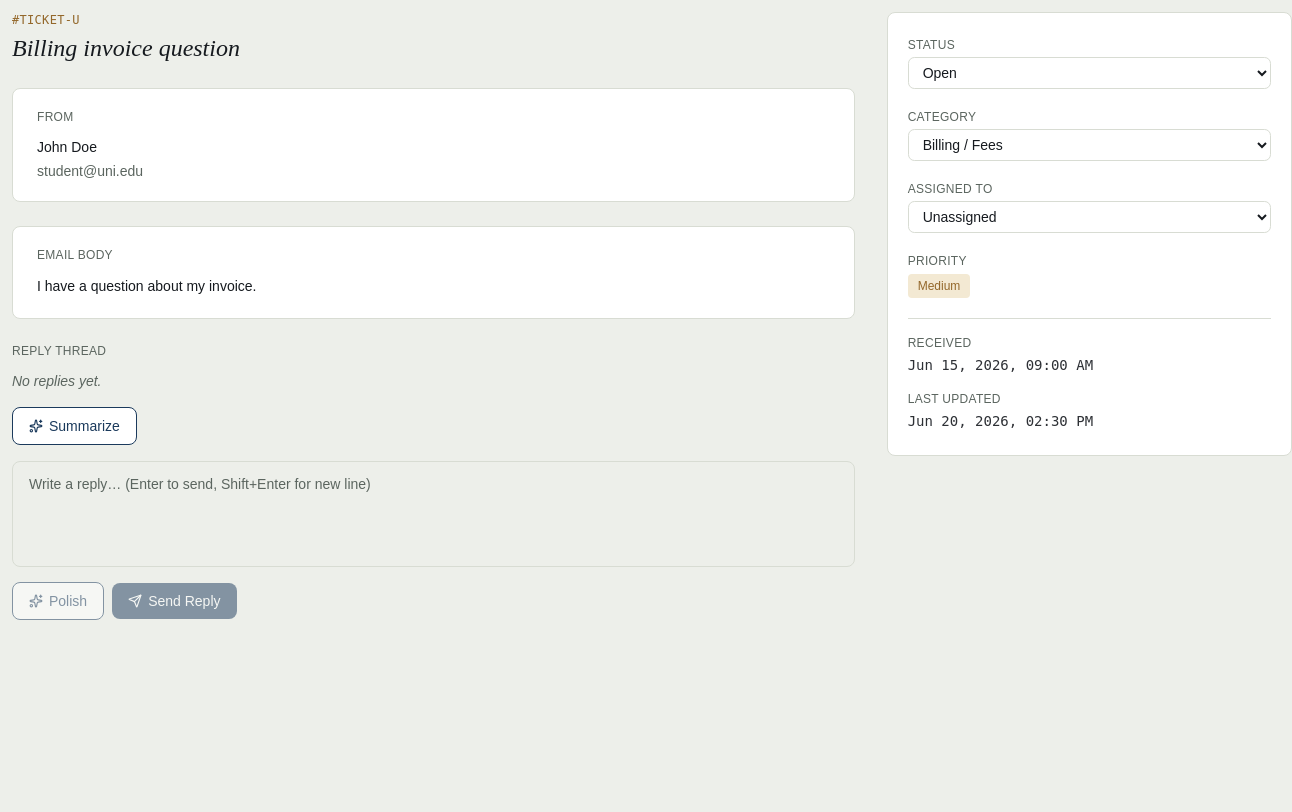
it: TicketDetail › reply form › shows button label as "Sending…" while the POST is in flight
expect the heading "Billing invoice question" is shown: met, box [12,35,240,61]
Type "Hello." into the text box with placeholder "Write a reply… (Enter to send, Shift+Enter for new line)" at (433, 514), box [12,461,855,567]
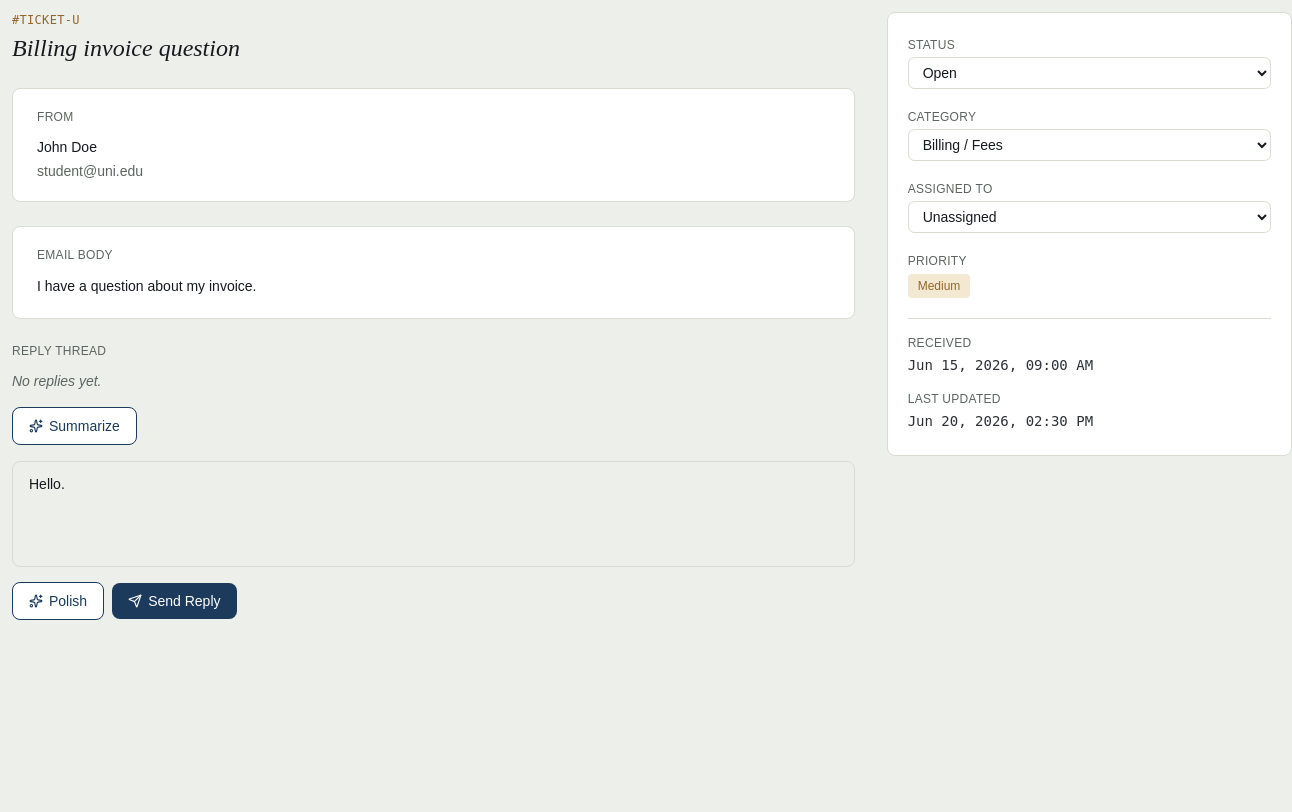
Click the button "Send Reply" at (174, 601), box [112,583,236,619]
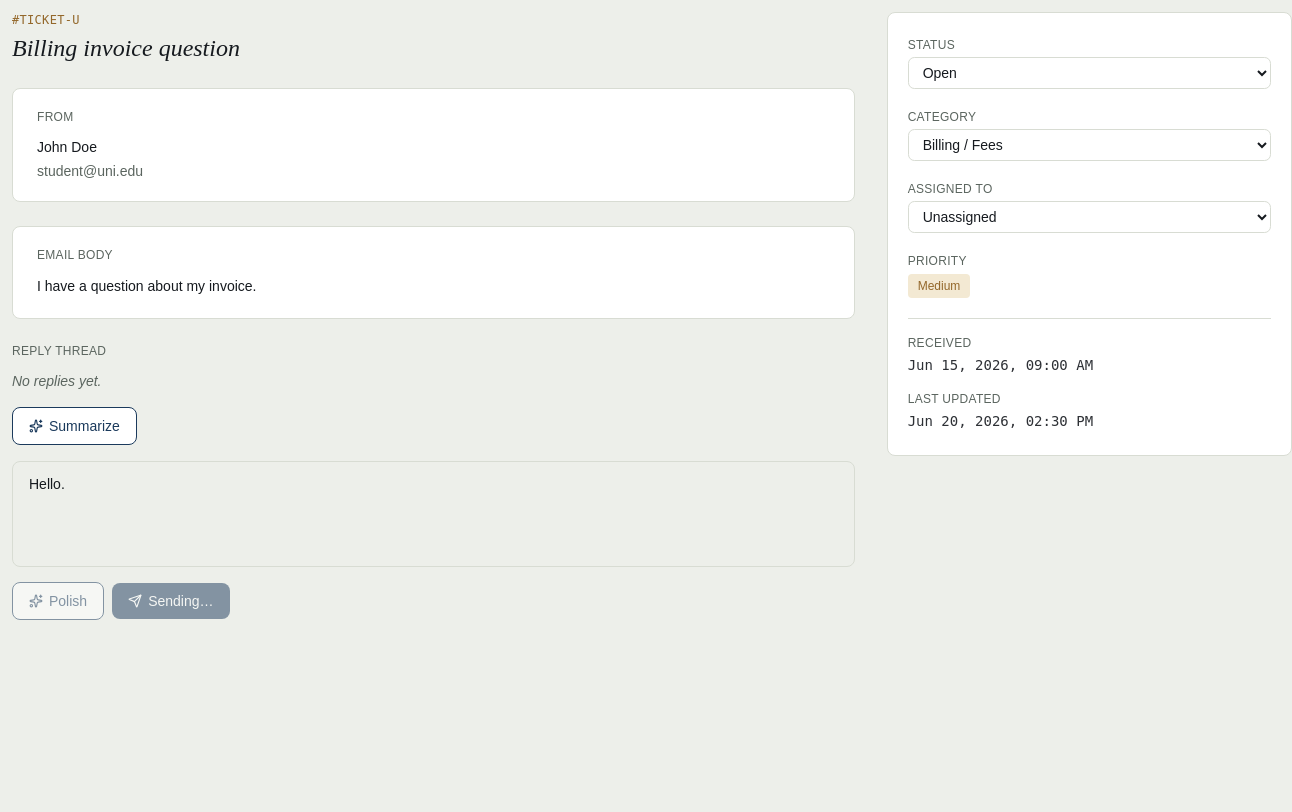
expect the button "Sending…" is shown: met, box [112,583,230,619]
